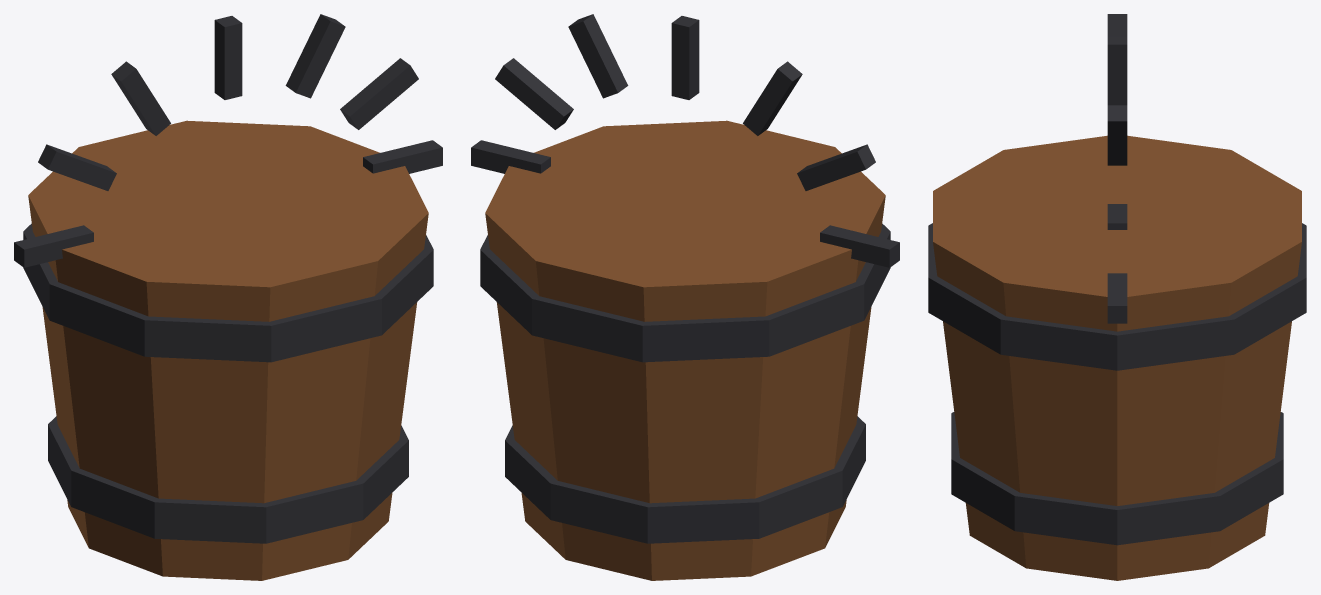
File: Bucket.fbx
3 views of the same model, side by side, from view 1: azimuth 30°, elevation 25°; view 2: azimuth 150°, elevation 25°; view 3: azimuth 270°, elevation 25° (orthographic). The views are drawn at different scales.
Visible parts, largest first — view 1: Bucket; view 2: Bucket; view 3: Bucket.
Part boxes in pixels (bbox=[...]): Bucket: bbox=[14, 14, 442, 580]; Bucket: bbox=[471, 14, 899, 580]; Bucket: bbox=[928, 14, 1306, 580].
Bounding box in the file's own units: 0.48 × 0.54 × 0.3898.
